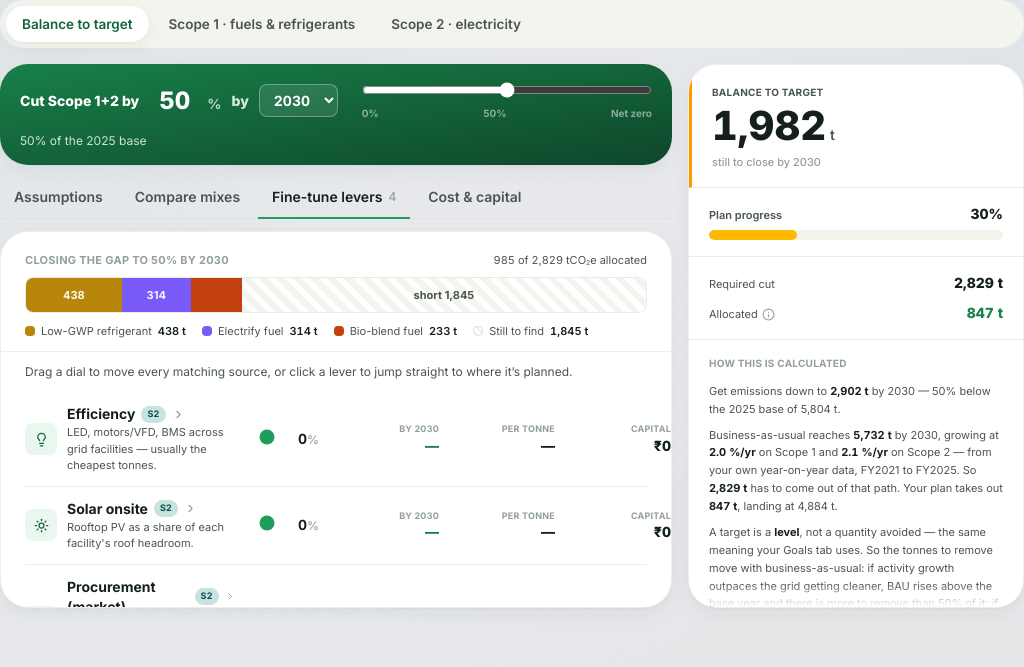
Scenario: BuilderHub — Balance to target lands first › navigating to Scope 1 shows the per-source modeller
Click the button "Scope 1 · fuels & refrigerants" at [262, 24], box [152,6,371,42]
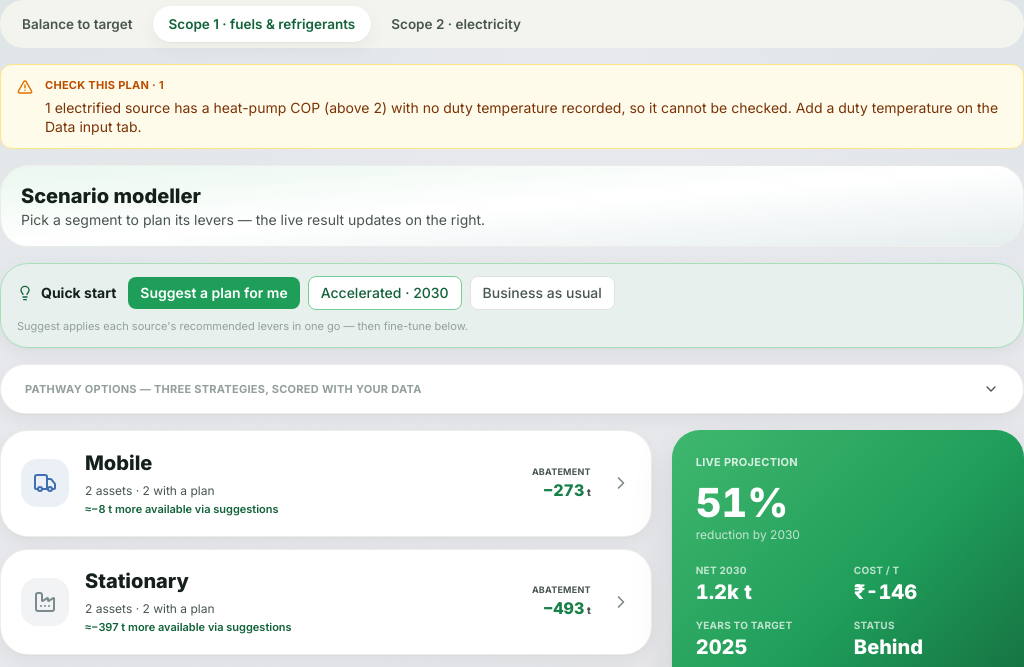
Expected: the text "Mobile" is shown, [85,451,152,475]
Expected: the text "Live projection" is shown, [696,455,798,469]
